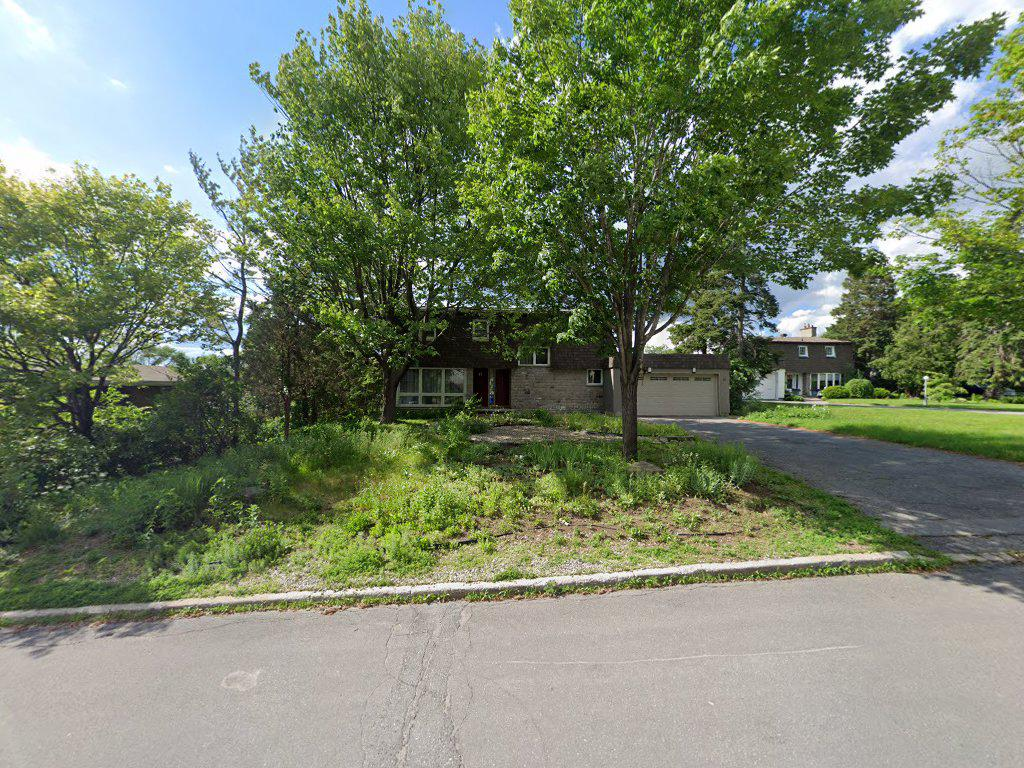trunk: (611, 315, 646, 471)
